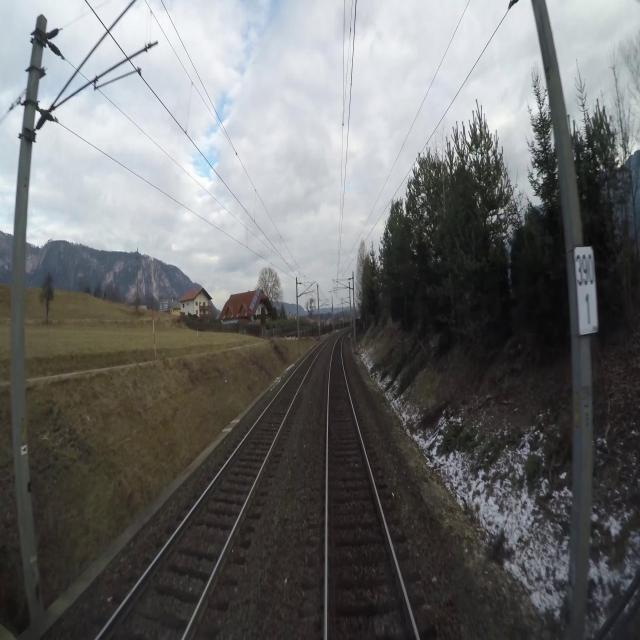rail-track: (100, 347, 319, 639), (329, 338, 415, 639)
